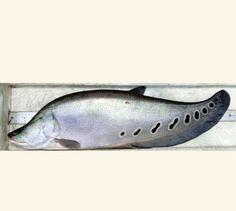Knifefish: (6, 84, 232, 153)
